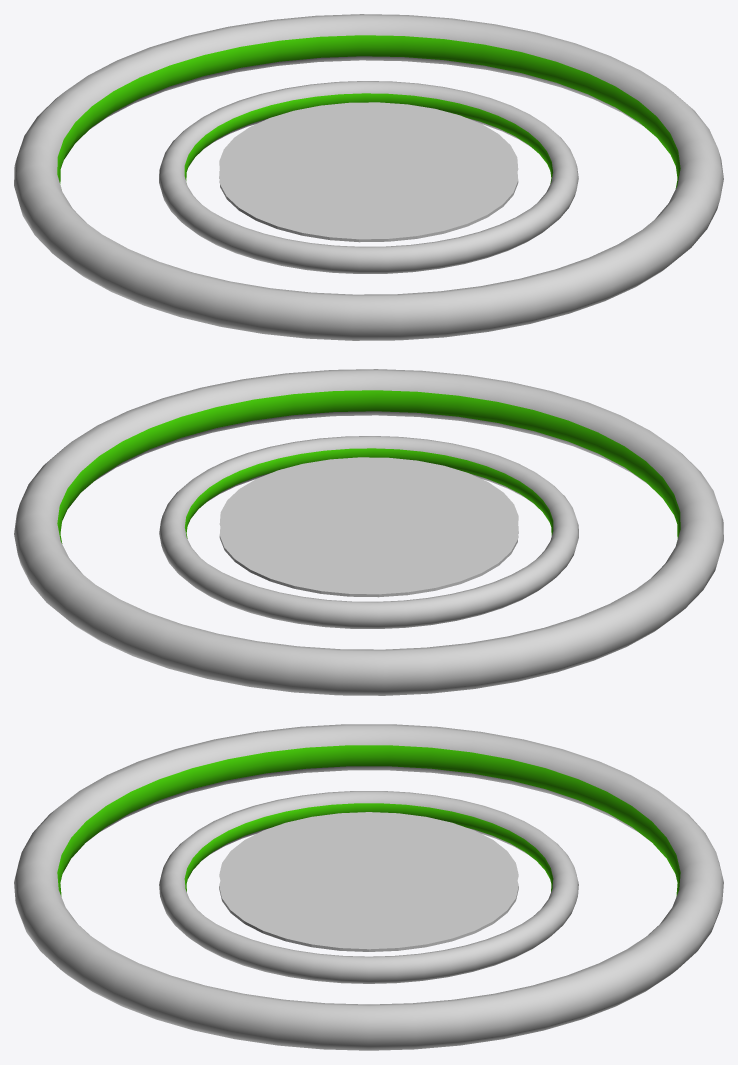
File: MechaFighterVR Arena.fbx
The picture shows the model from 3 angles, top to bottom: view 1: azimuth 30°, elevation 25°; view 2: azimuth 150°, elevation 25°; view 3: azimuth 270°, elevation 25°; orthographic projection.
Parts seen in each view (by area): view 1: Outer Ring, Arena, Inner Ring; view 2: Outer Ring, Arena, Inner Ring; view 3: Outer Ring, Arena, Inner Ring.
Boxes of the visible parts, bbox=[...] form: Outer Ring: bbox=[14, 14, 723, 340]; Arena: bbox=[219, 102, 518, 242]; Inner Ring: bbox=[159, 81, 578, 273]; Outer Ring: bbox=[14, 369, 723, 695]; Arena: bbox=[219, 457, 518, 597]; Inner Ring: bbox=[159, 436, 578, 628]; Outer Ring: bbox=[14, 724, 723, 1050]; Arena: bbox=[219, 812, 518, 951]; Inner Ring: bbox=[159, 791, 578, 983].
Size of the model in its own units: 2465 by 161 by 2466.
